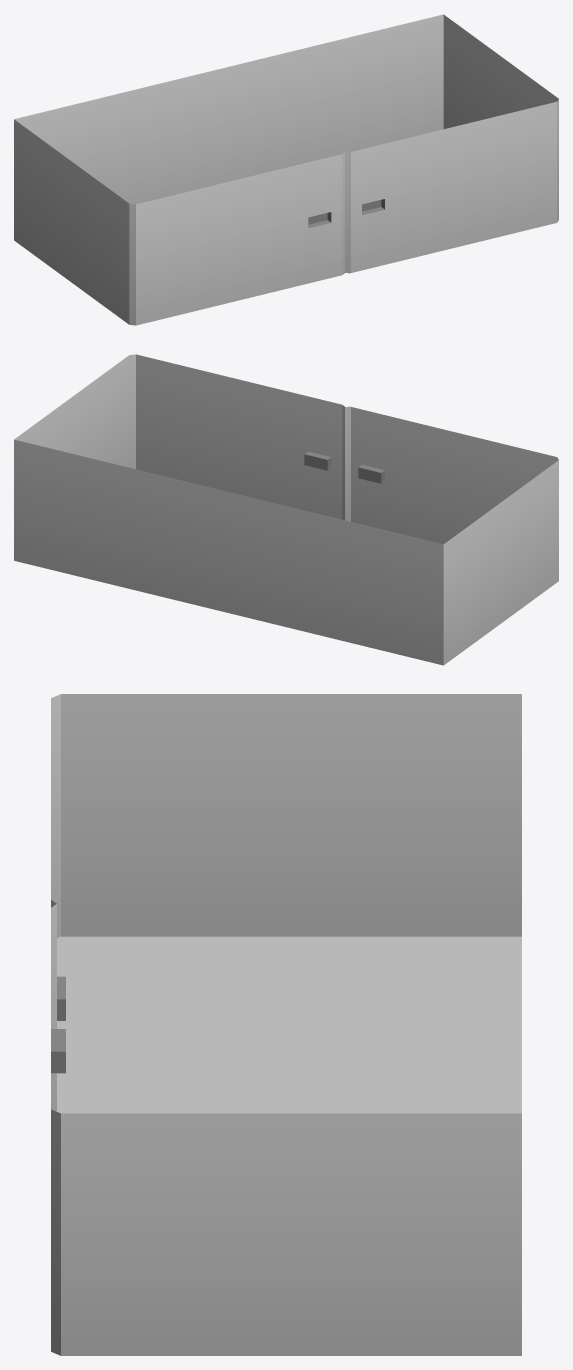
The model's file is Counter_01_v06_D_C02.fbx.
3 renders of one model, top to bottom at view 1: azimuth 30°, elevation 25°; view 2: azimuth 150°, elevation 25°; view 3: azimuth 270°, elevation 25°, orthographic. The views are drawn at different scales.
Visible parts, largest first — view 1: Counter_01_v06_D_C02; view 2: Counter_01_v06_D_C02; view 3: Counter_01_v06_D_C02.
Part boxes in pixels (bbox=[...]): Counter_01_v06_D_C02: bbox=[14, 14, 558, 325]; Counter_01_v06_D_C02: bbox=[14, 354, 558, 665]; Counter_01_v06_D_C02: bbox=[51, 694, 521, 1355].
Size of the model in its own units: 200 by 53.91 by 94.97.
